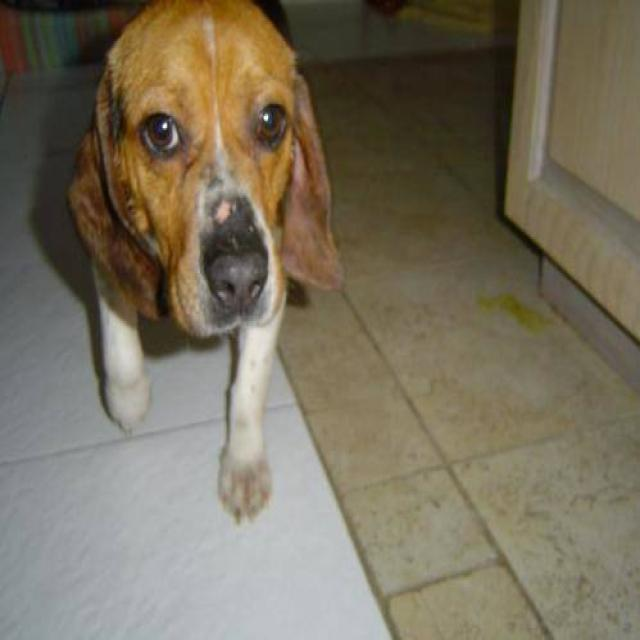dog: (64, 0, 345, 524)
